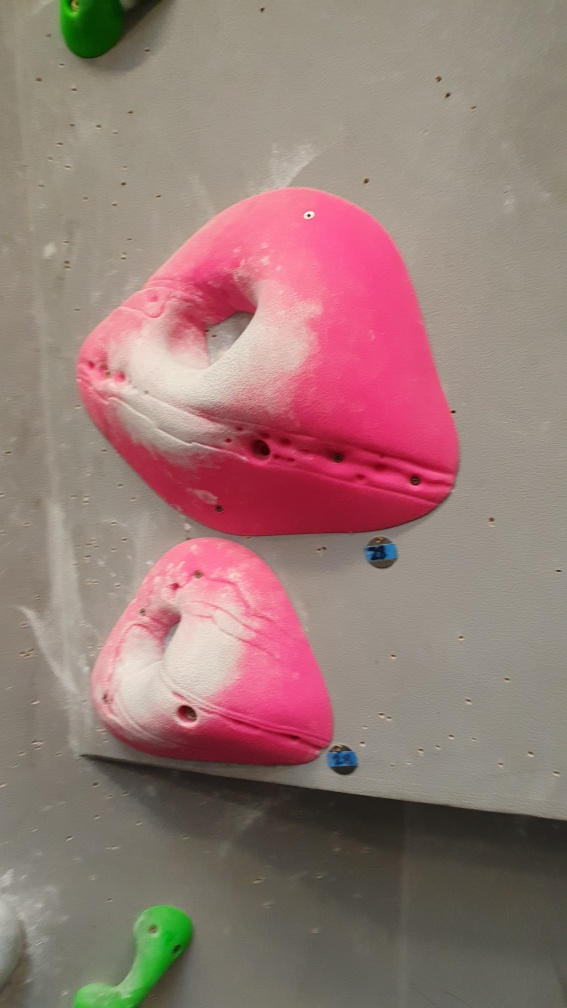Hand Start: (361, 533, 401, 576), (323, 742, 361, 780)
Pocket: (75, 187, 464, 541), (87, 535, 337, 767)
